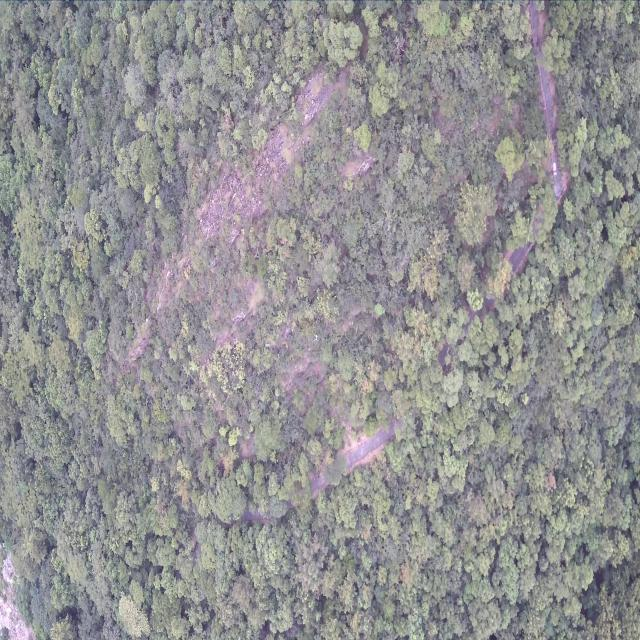drone: (313, 334, 319, 342)
